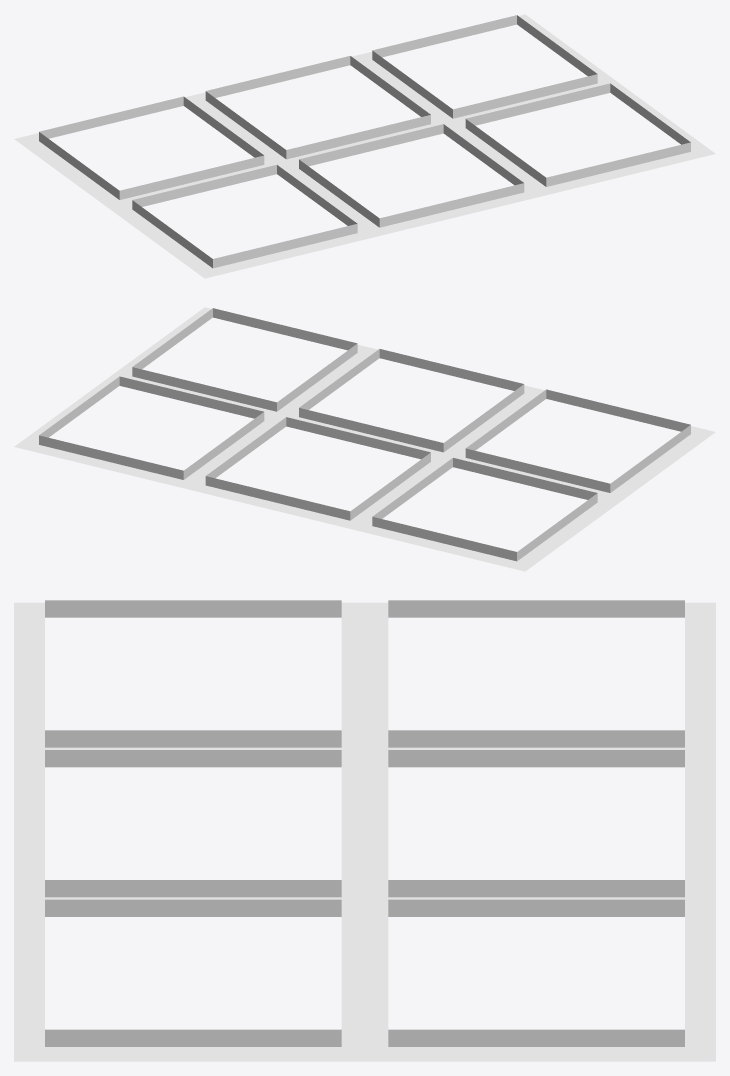
File: Janela_Teto.glb
3 renders of one model, top to bottom at view 1: azimuth 30°, elevation 25°; view 2: azimuth 150°, elevation 25°; view 3: azimuth 270°, elevation 25°, orthographic. The views are drawn at different scales.
Parts seen in each view (by area): view 1: Teto.001; view 2: Teto.001; view 3: Teto.001.
Part boxes in pixels (bbox=[...]): Teto.001: bbox=[14, 14, 715, 278]; Teto.001: bbox=[14, 307, 715, 571]; Teto.001: bbox=[14, 600, 715, 1061].
Size of the model in its own units: 4.61 by 0.0814 by 2.98.
1 material, 1 textured.
